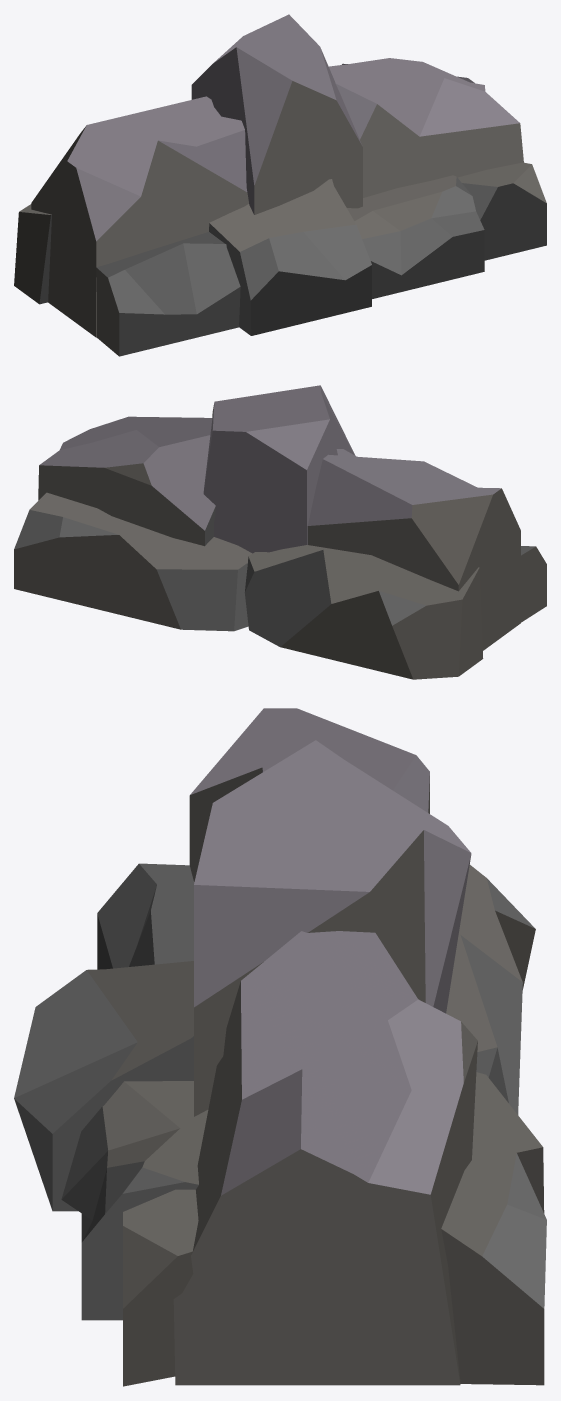
File: rock _main_part.fbx
3 renders of one model, top to bottom at view 1: azimuth 30°, elevation 25°; view 2: azimuth 150°, elevation 25°; view 3: azimuth 270°, elevation 25°, orthographic. The views are drawn at different scales.
Parts seen in each view (by area): view 1: Cube.033; view 2: Cube.033; view 3: Cube.033.
Boxes of the visible parts, x1=… form: Cube.033: x1=14, y1=14, x2=546, y2=356; Cube.033: x1=14, y1=385, x2=546, y2=679; Cube.033: x1=14, y1=708, x2=546, y2=1386.
Size of the model in its own units: 1323 by 636 by 741.
